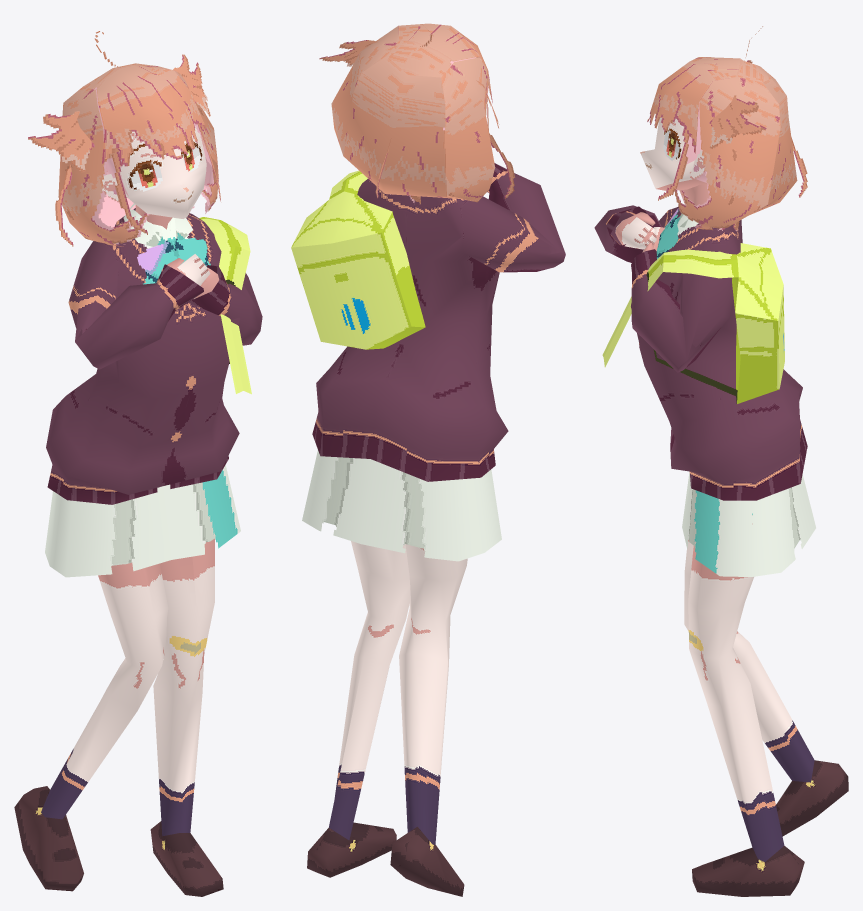
File: fullsizegirl1.glb
The picture shows the model from 3 angles, left to right: view 1: azimuth 30°, elevation 25°; view 2: azimuth 150°, elevation 25°; view 3: azimuth 270°, elevation 25°; orthographic projection. The views are drawn at different scales.
Parts seen in each view (by area): view 1: Meiko Main Model_0, Mochila.001_1; view 2: Meiko Main Model_0, Mochila.001_1; view 3: Meiko Main Model_0, Mochila.001_1.
Part boxes in pixels (x1=…): Meiko Main Model_0: x1=14, y1=31, x2=262, y2=896; Mochila.001_1: x1=199, y1=217, x2=251, y2=394; Meiko Main Model_0: x1=302, y1=23, x2=565, y2=896; Mochila.001_1: x1=291, y1=170, x2=425, y2=349; Meiko Main Model_0: x1=594, y1=26, x2=848, y2=896; Mochila.001_1: x1=602, y1=243, x2=784, y2=403.
Bounding box in the file's own units: 0.3752 × 1.47 × 0.4064.
Materials: 1 (1 with a texture image).
